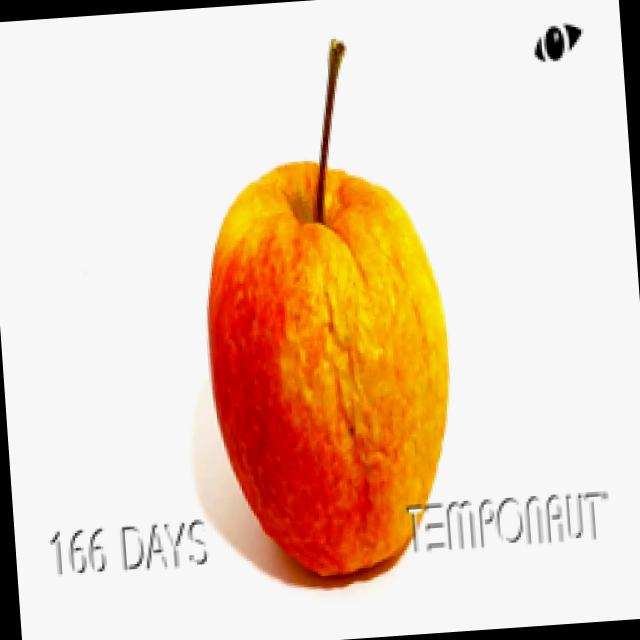Rotten_Apple: (181, 0, 470, 594)
